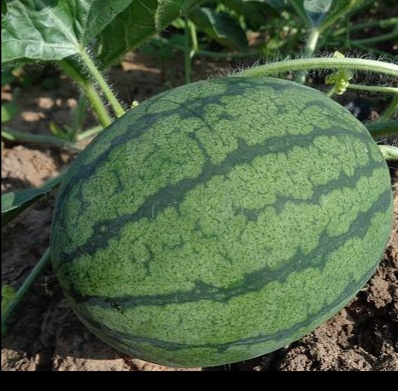watermelon: (50, 67, 390, 365)
